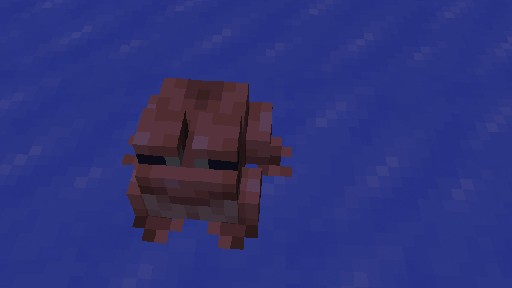frog: (121, 76, 292, 250)
